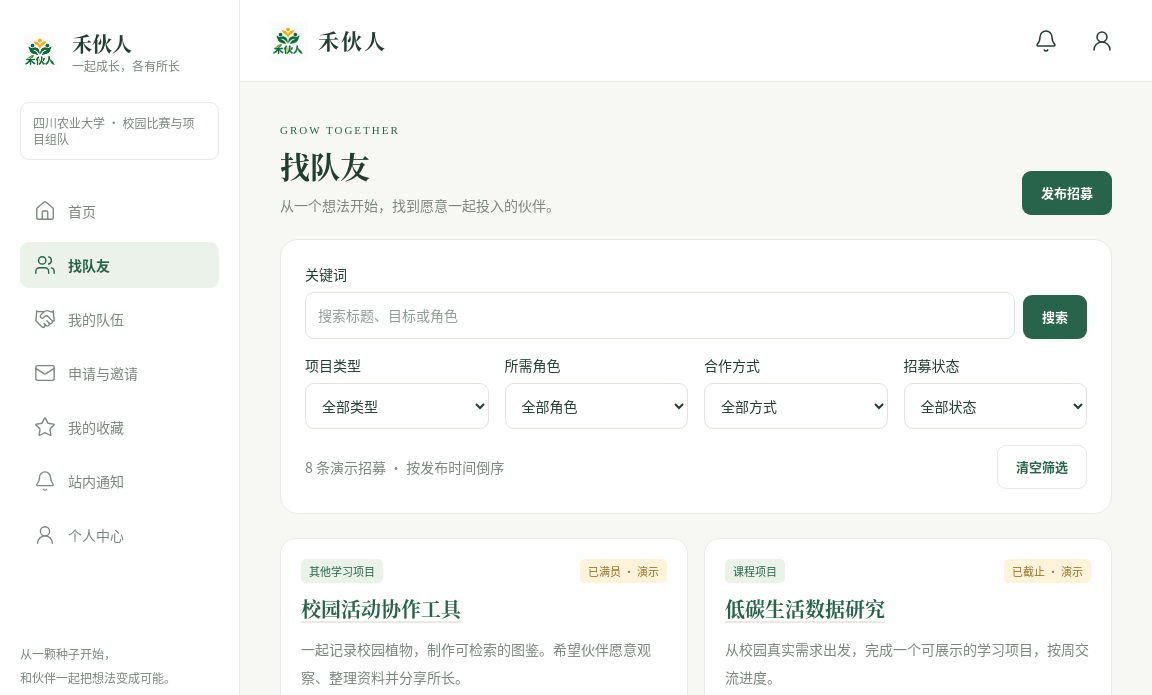
Scenario: 找队友页面、会话与真实比赛查询 › 搜索提交才生效；筛选交集、翻页及详情返回恢复历史
Click the link "校园活动协作工具".
click(381, 608)  # box [301,594,461,623]
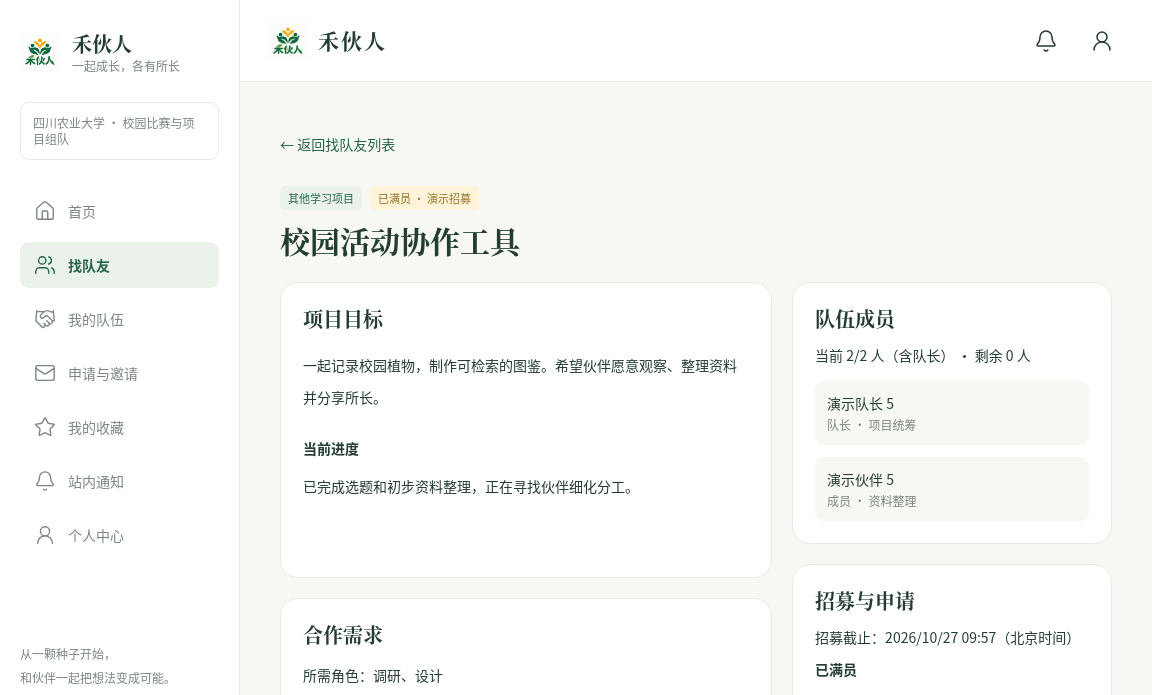
Click the link to "/teams?page=2".
click(338, 144)  # box [280,134,395,154]
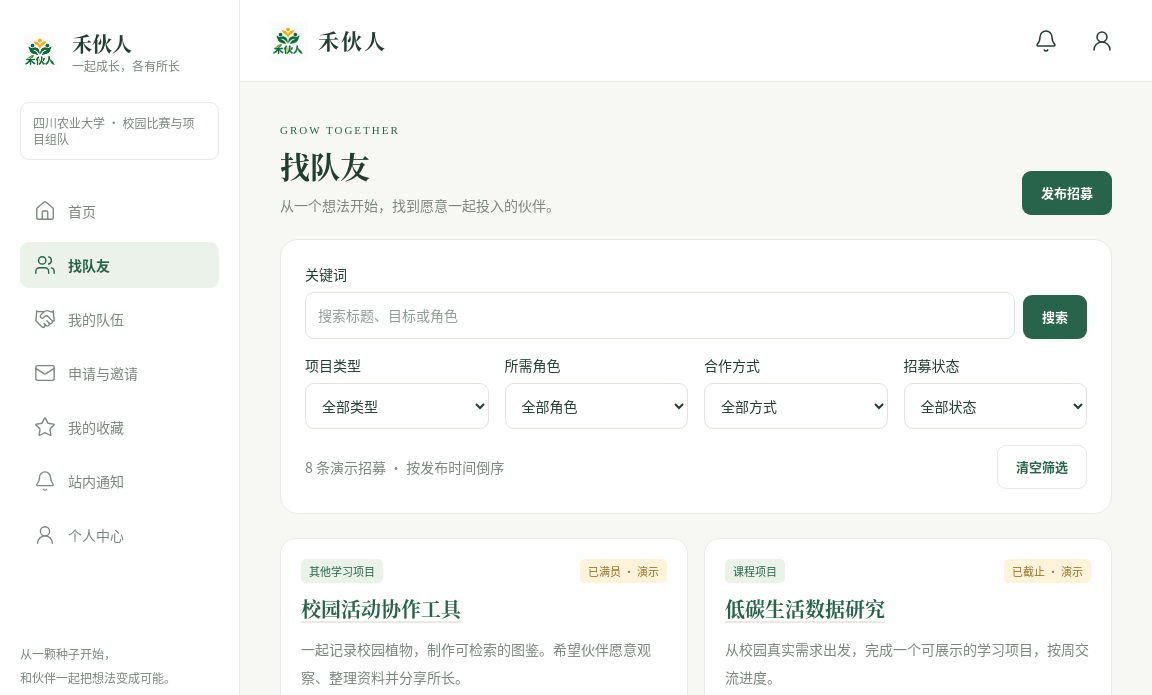
Type "植物" into the field with id "team-search".
click(660, 315); type("植物")  # box [305,292,1015,339]
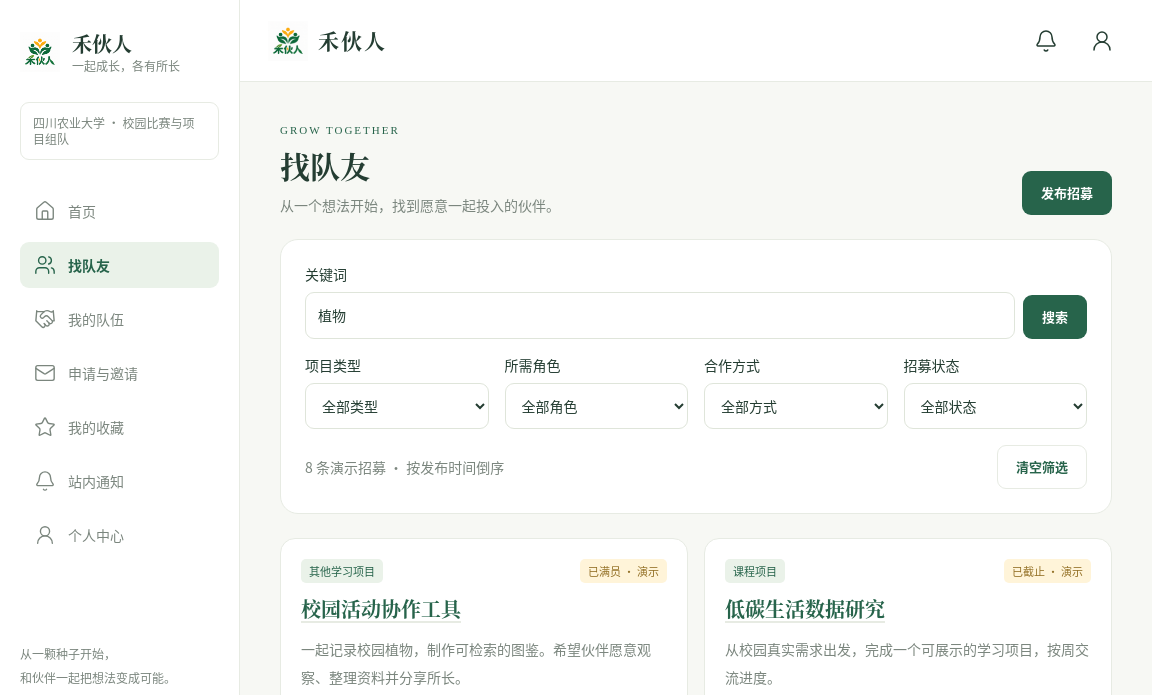
Submit the form, box [305,264,1087,339]
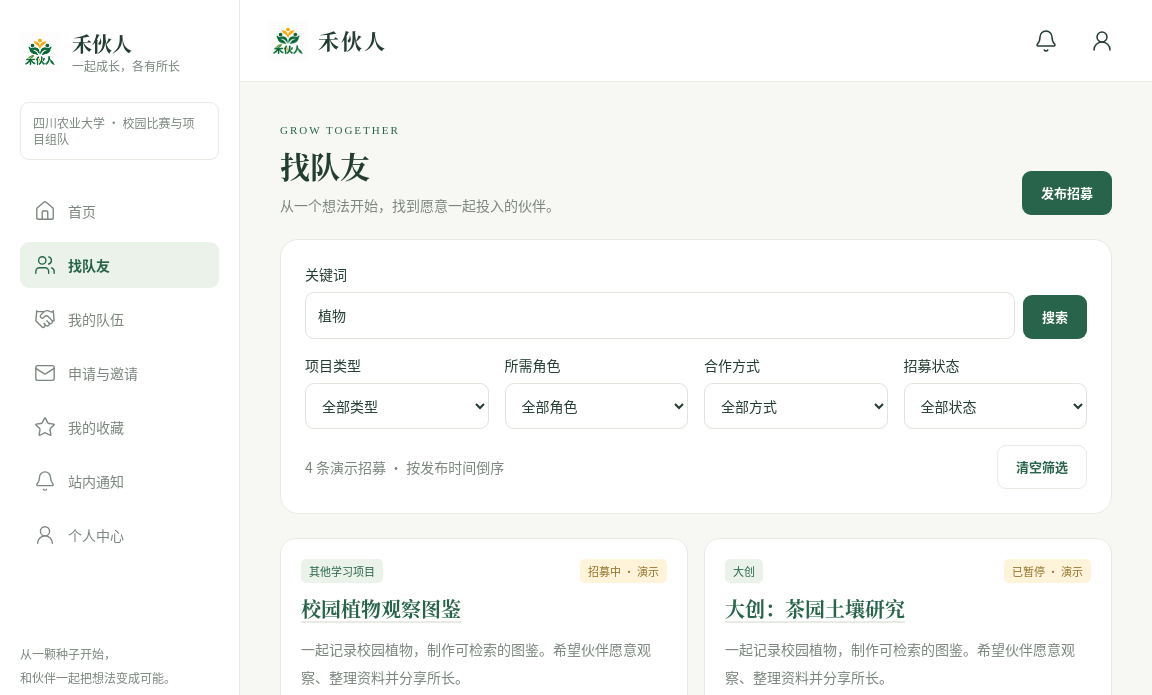
Check: the text "4 条演示招募" is shown, box [305,457,386,477]
